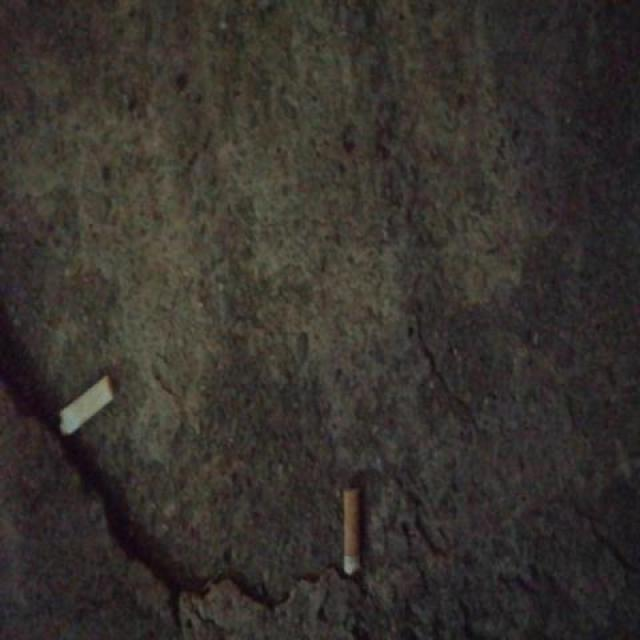non-organic waste: (55, 370, 118, 446), (339, 486, 365, 579)
